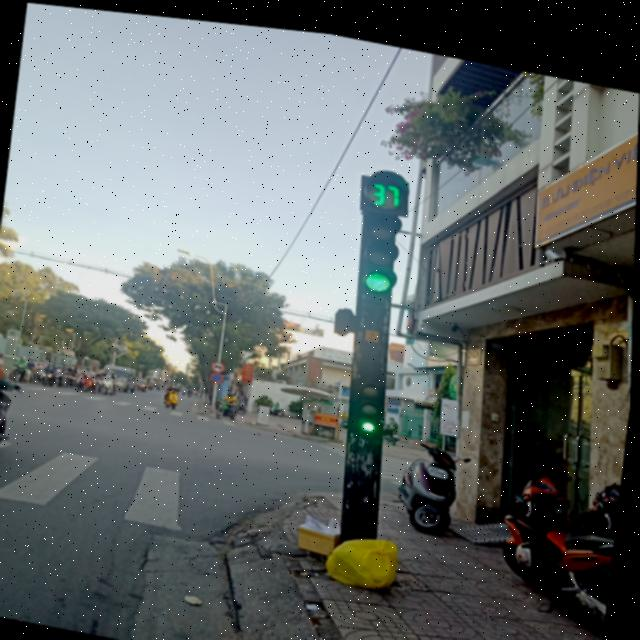Green: (354, 197, 410, 292), (347, 363, 391, 435)
